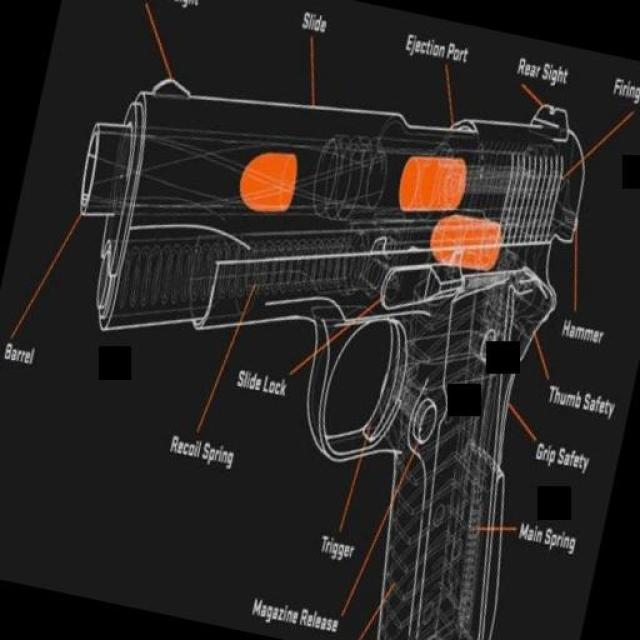gun: (0, 7, 606, 640)
